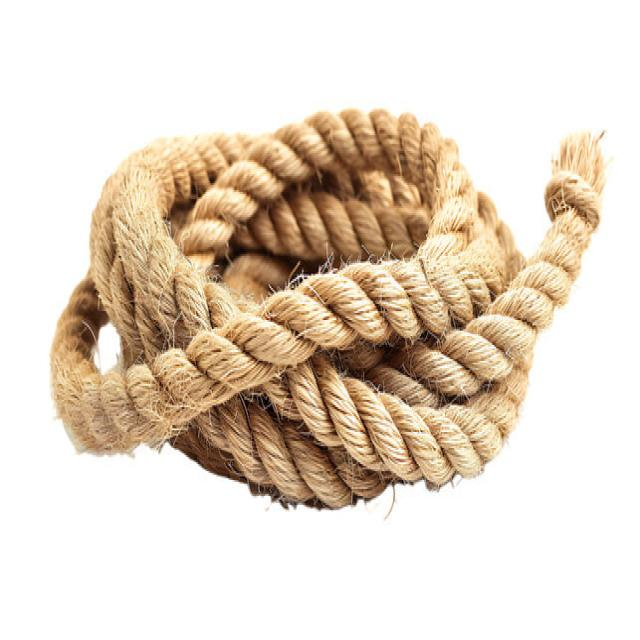Rope: (40, 82, 615, 523)
